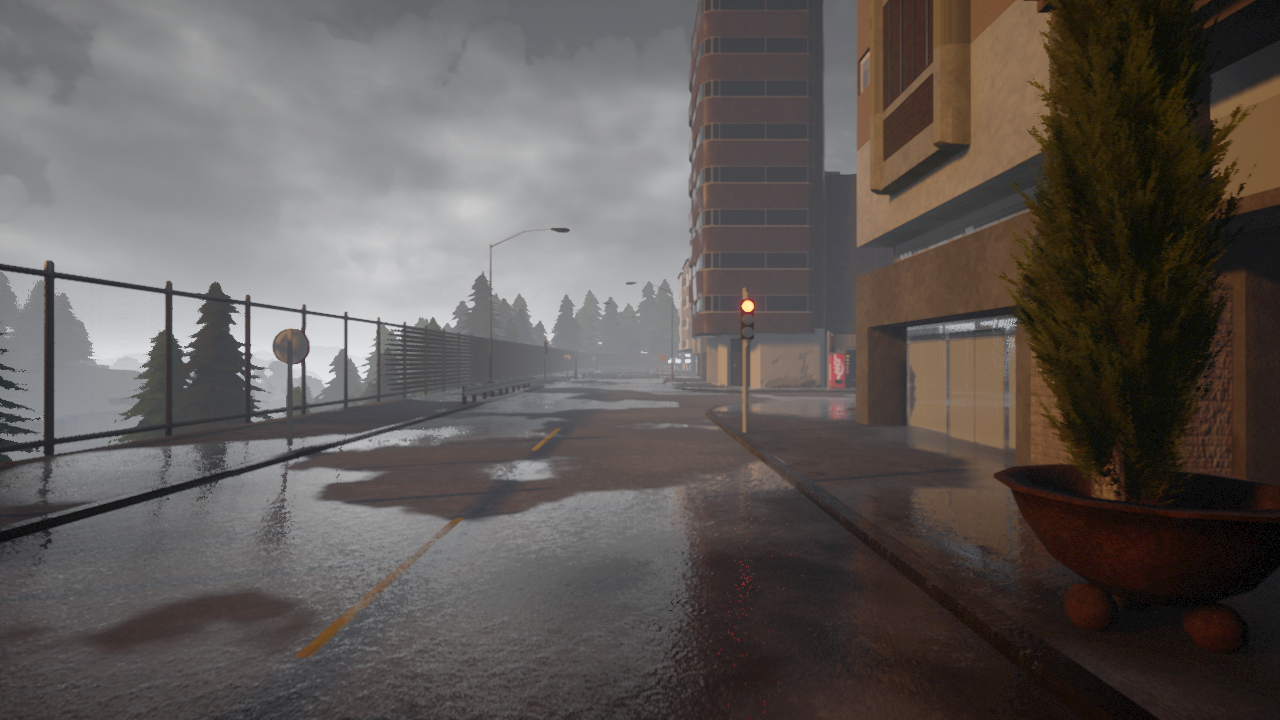red: (739, 299, 755, 342)
